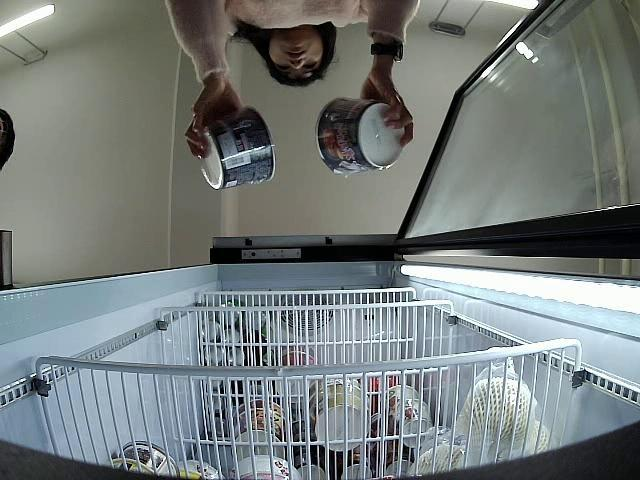07_buldak_L: (314, 93, 402, 178), (202, 108, 276, 193)
